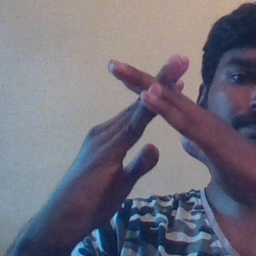W: (89, 47, 225, 161)
